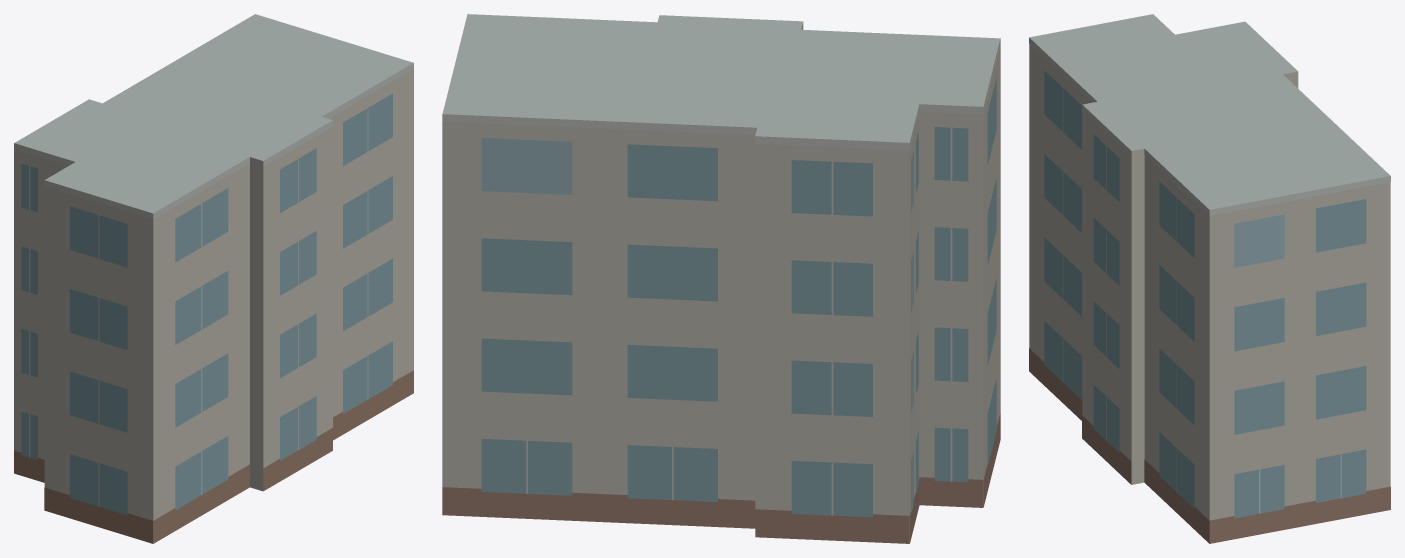
Rendered from survey-upis-32759379.glb.
3 renders of one model, left to right at view 1: azimuth 30°, elevation 25°; view 2: azimuth 150°, elevation 25°; view 3: azimuth 270°, elevation 25°, orthographic. The views are drawn at different scales.
Visible parts, largest first — view 1: survey-upis-32759379.tmp; view 2: survey-upis-32759379.tmp; view 3: survey-upis-32759379.tmp.
Boxes of the visible parts, x1,y1,x2,y2 form: survey-upis-32759379.tmp: (14, 14, 413, 543); survey-upis-32759379.tmp: (442, 14, 1000, 543); survey-upis-32759379.tmp: (1029, 14, 1390, 543).
Size of the model in its own units: 16.62 by 13.2 by 12.96.
